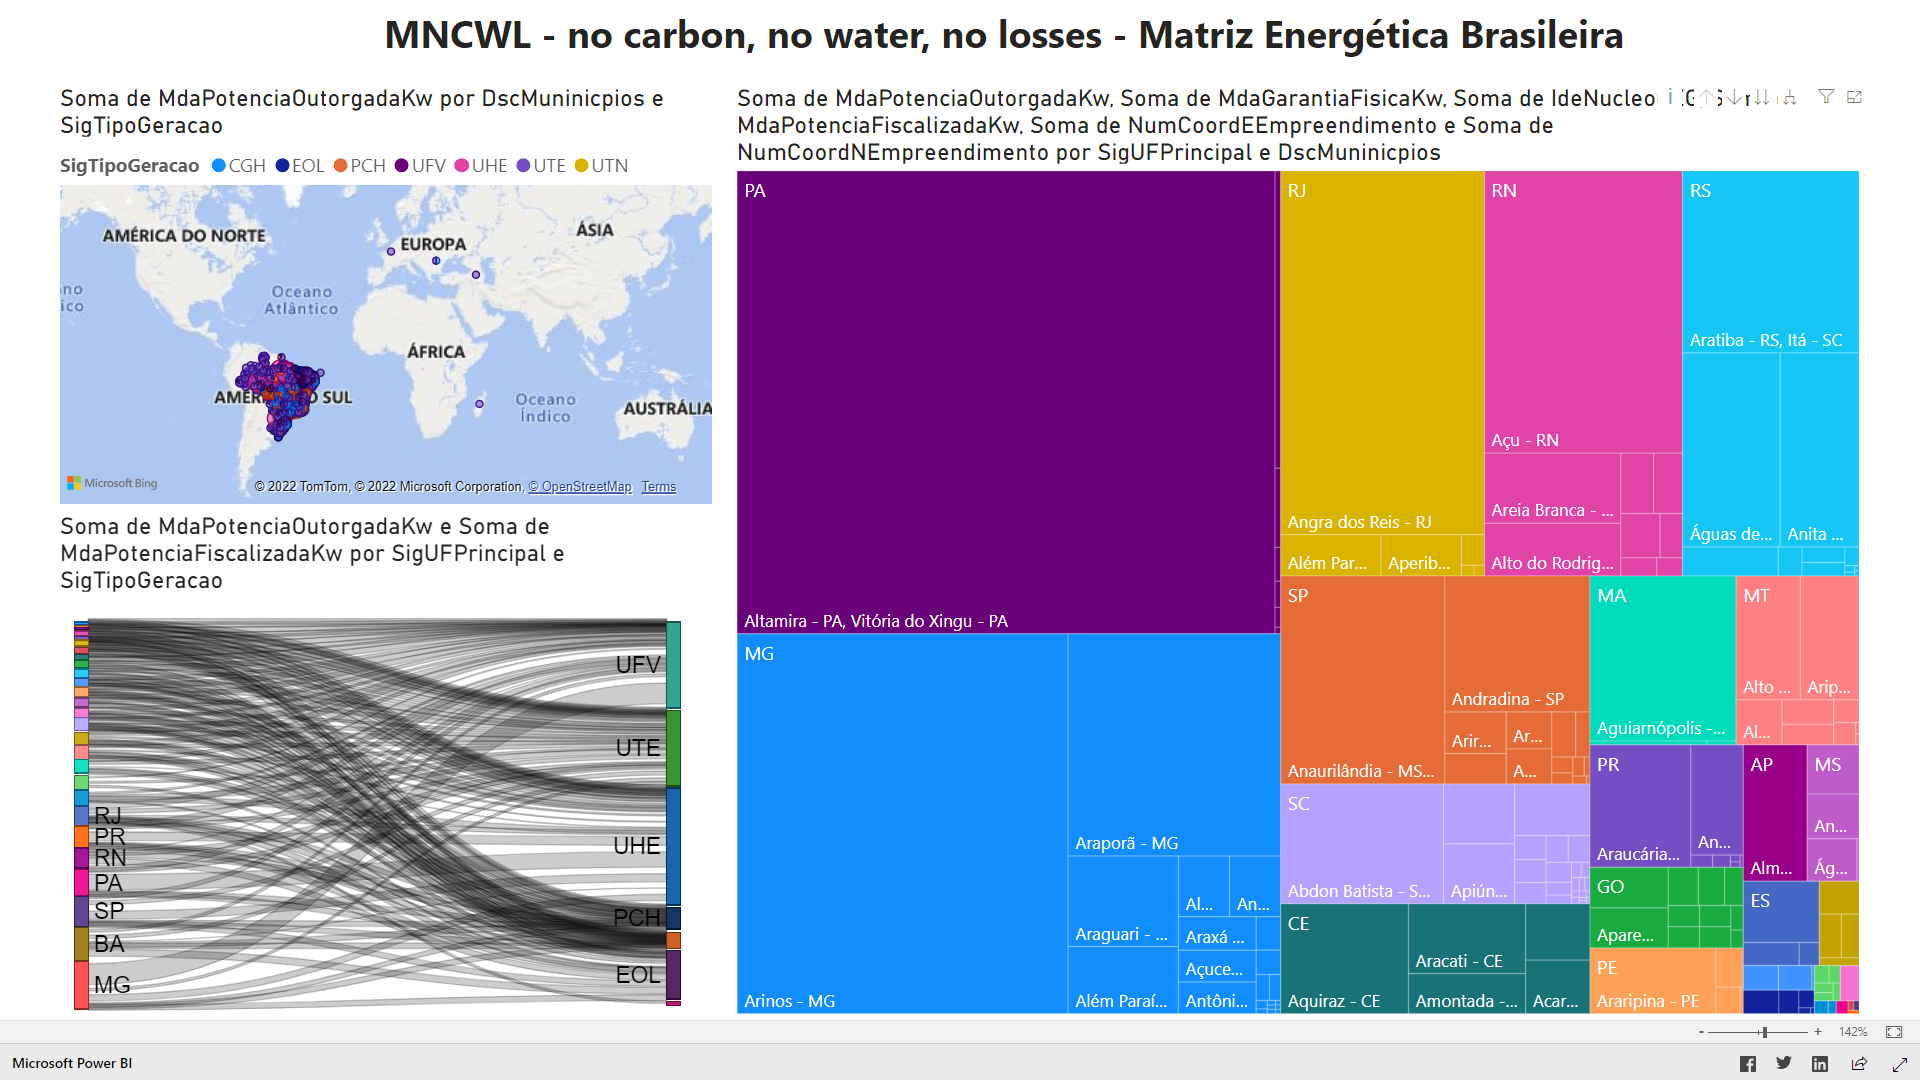

What the dashboard file says about the page in this screenshot:
{"tool":"powerbi","page":{"name":"Página 1","canvas":[1280,720],"ordinal":0},"visuals":[{"type":"textbox","box":[292,0,558.6,70.2],"z":0},{"type":"treemap","fields":{"Group":["siga-empreendimentos-geracao.SigUFPrincipal","siga-empreendimentos-geracao.DscOrigemCombustivel","siga-empreendimentos-geracao.NomFonteCombustivel","siga-empreendimentos-geracao.NomEmpreendimento","siga-empreendimentos-geracao.SigTipoGeracao","siga-empreendimentos-geracao.DscFonteCombustivel","siga-empreendimentos-geracao.DscPropriRegimePariticipacao"],"Details":["siga-empreendimentos-geracao.DscMuninicpios"],"Values":["Sum(siga-empreendimentos-geracao.MdaPotenciaOutorgadaKw)"]},"box":[571.6,58,708.6,342.4],"z":1000},{"type":"map","fields":{"Series":["siga-empreendimentos-geracao.SigTipoGeracao"],"Category":["siga-empreendimentos-geracao.DscMuninicpios","siga-empreendimentos-geracao.SigUFPrincipal","siga-empreendimentos-geracao.NomEmpreendimento","siga-empreendimentos-geracao.DscFonteCombustivel","siga-empreendimentos-geracao.NomFonteCombustivel"],"Size":["Sum(siga-empreendimentos-geracao.MdaPotenciaOutorgadaKw)"]},"box":[0,79,555.8,641],"z":2000},{"type":"sankey02300D1BE6F5427989F3DE31CCA9E0F32020","fields":{"Source":["siga-empreendimentos-geracao.SigUFPrincipal"],"Destination":["siga-empreendimentos-geracao.SigTipoGeracao"],"Weight":["Sum(siga-empreendimentos-geracao.MdaPotenciaOutorgadaKw)"],"SourceLabels":["Sum(siga-empreendimentos-geracao.MdaPotenciaFiscalizadaKw)"]},"box":[571.6,400.4,708.6,319.6],"z":3000},{"type":"image","box":[0,0,170.3,65.9],"z":3001}]}

Visuals, with their boxes on the page's 1280x720 design canvas (x1, y1, x2, y2). These are canvas units, not pixel positions in the 1920x1080 screenshot, which may show the page scaled, cropped or inside an application window:
textbox: <box>292,0,851,70</box>
treemap - siga-empreendimentos-geracao.SigUFPrincipal x siga-empreendimentos-geracao.DscOrigemCombustivel: <box>572,58,1280,400</box>
map - siga-empreendimentos-geracao.SigTipoGeracao x siga-empreendimentos-geracao.DscMuninicpios: <box>0,79,556,720</box>
sankey02300D1BE6F5427989F3DE31CCA9E0F32020 - siga-empreendimentos-geracao.SigUFPrincipal x siga-empreendimentos-geracao.SigTipoGeracao: <box>572,400,1280,720</box>
image: <box>0,0,170,66</box>
